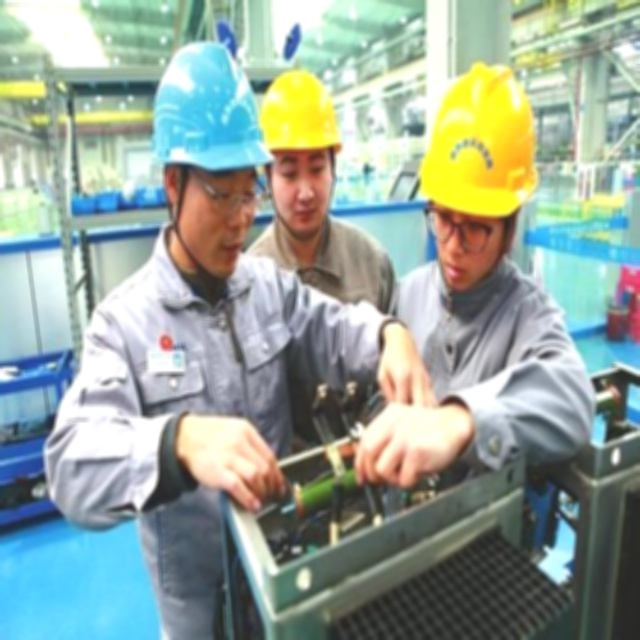Con_Casco: (416, 63, 538, 285)
